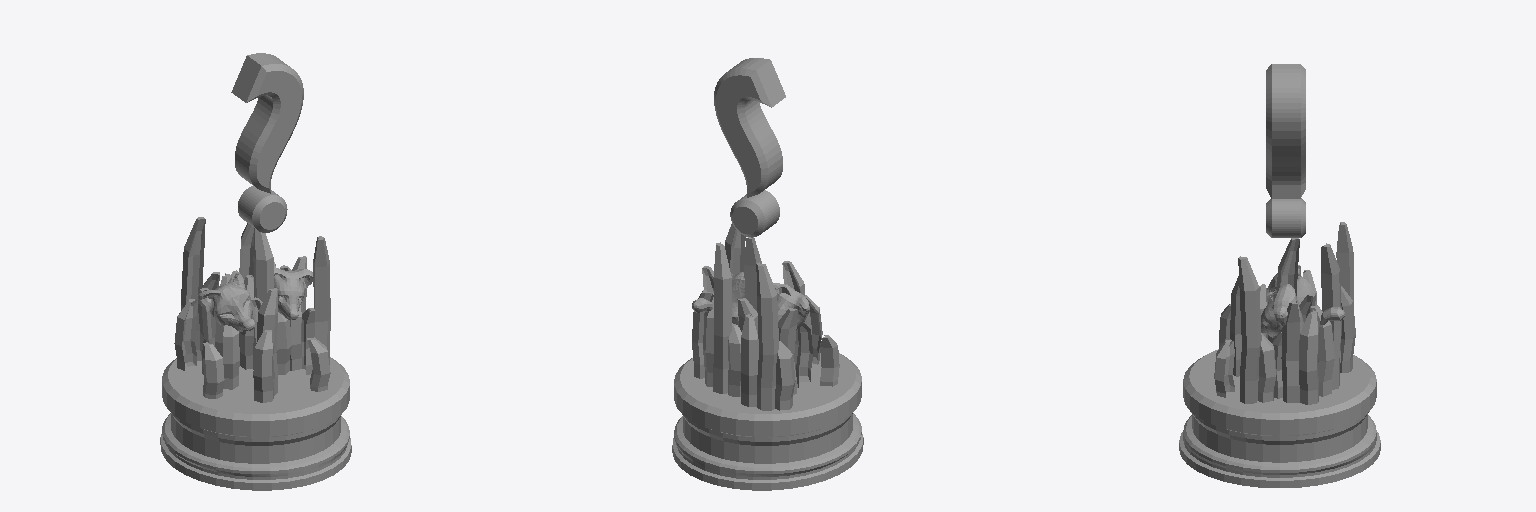
The model's file is neutral.obj.
The picture shows the model from 3 angles: view 1: azimuth 30°, elevation 25°; view 2: azimuth 150°, elevation 25°; view 3: azimuth 270°, elevation 25°; orthographic projection.
Visible parts, largest first — view 1: neutre.012_Circle.026; view 2: neutre.012_Circle.026; view 3: neutre.012_Circle.026.
Boxes of the visible parts, box(x1,y1,x2,y2) form: neutre.012_Circle.026: box(160, 53, 351, 490); neutre.012_Circle.026: box(672, 58, 863, 490); neutre.012_Circle.026: box(1179, 64, 1380, 487).
Bounding box in the file's own units: 2.23 × 5.05 × 2.4.